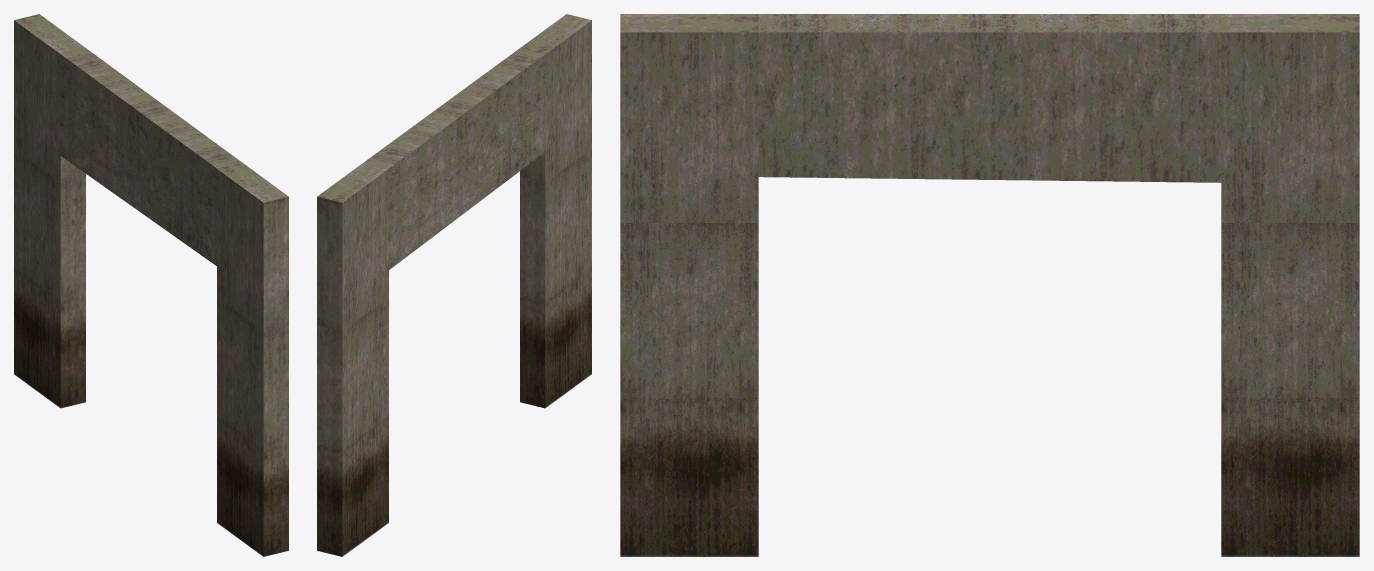
The model's file is PortaoGaragem.fbx.
The picture shows the model from 3 angles, left to right: view 1: azimuth 30°, elevation 25°; view 2: azimuth 150°, elevation 25°; view 3: azimuth 270°, elevation 25°; orthographic projection. The views are drawn at different scales.
Visible parts, largest first — view 1: Parede 2x4.25; view 2: Parede 2x4.25; view 3: Parede 2x4.25.
Part boxes in pixels (<box>): Parede 2x4.25: <box>14,14,288,556</box>; Parede 2x4.25: <box>317,14,591,556</box>; Parede 2x4.25: <box>620,14,1359,556</box>.
Bounding box in the file's own units: 50 × 668 × 853.
Materials: 2 (2 with a texture image).
